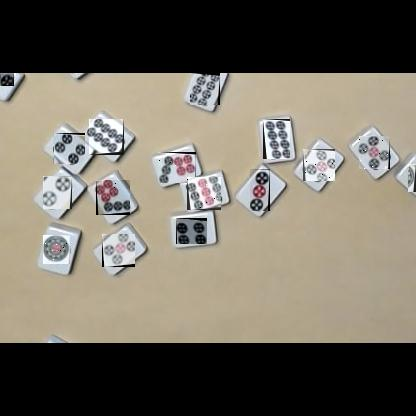1p: (43, 235, 70, 264), (408, 164, 416, 192)
2p: (43, 176, 72, 209)
3p: (250, 169, 270, 211), (0, 73, 14, 86)
4p: (53, 133, 85, 164), (176, 218, 207, 244)
5p: (102, 234, 135, 267), (303, 149, 335, 181), (359, 136, 390, 169)
7p: (96, 180, 130, 215), (158, 152, 196, 183)
8p: (89, 119, 124, 155), (263, 119, 290, 159), (190, 73, 220, 105)
9p: (187, 177, 221, 210)
